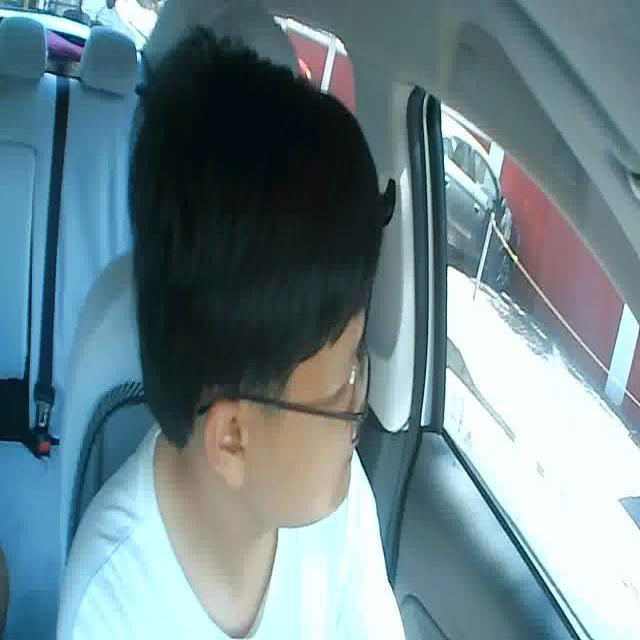Eye-Close: (328, 378, 354, 403)
Inattentive: (128, 44, 385, 528)
Normal: (330, 443, 354, 468)
